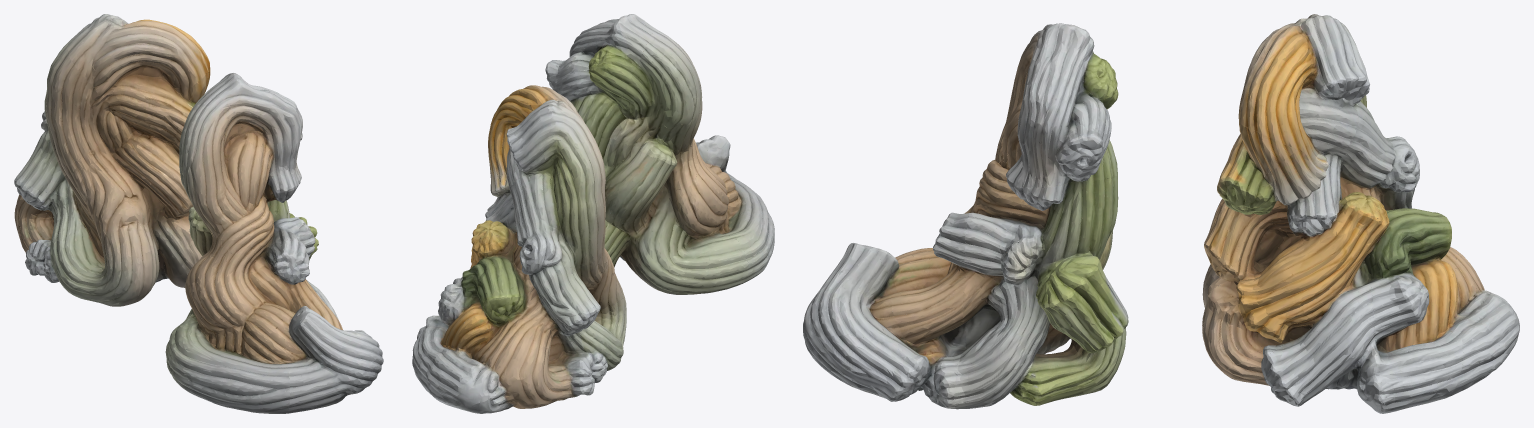
The model's file is 05_3_js_brq_bookend2-opt-v17.glb.
3 views of the same model, side by side, from view 1: azimuth 30°, elevation 25°; view 2: azimuth 150°, elevation 25°; view 3: azimuth 270°, elevation 25° (orthographic). The views are drawn at different scales.
Visible parts, largest first — view 1: tripo_node_ce7b7270-dfee-40e5-b33e-20417dcd1445; view 2: tripo_node_ce7b7270-dfee-40e5-b33e-20417dcd1445; view 3: tripo_node_ce7b7270-dfee-40e5-b33e-20417dcd1445.
Boxes of the visible parts, box(x1,y1,x2,y2) form: tripo_node_ce7b7270-dfee-40e5-b33e-20417dcd1445: box(14, 14, 383, 413); tripo_node_ce7b7270-dfee-40e5-b33e-20417dcd1445: box(412, 14, 774, 413); tripo_node_ce7b7270-dfee-40e5-b33e-20417dcd1445: box(803, 14, 1519, 413).
Bounding box in the file's own units: 0.1121 × 0.16 × 0.3013.
1 material, 1 textured.
